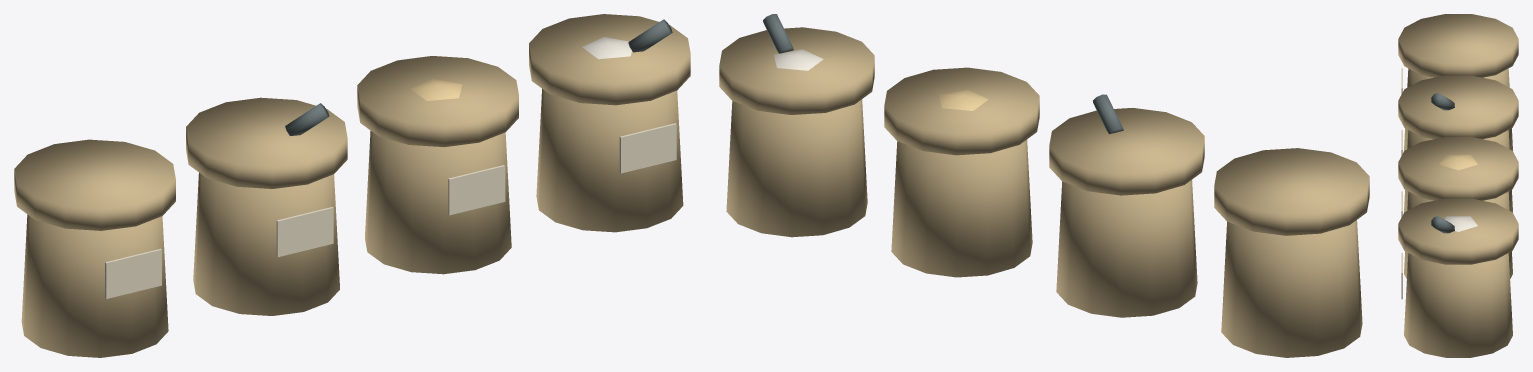
3 views of the same model, side by side, from view 1: azimuth 30°, elevation 25°; view 2: azimuth 150°, elevation 25°; view 3: azimuth 270°, elevation 25° (orthographic). The views are drawn at different scales.
Parts seen in each view (by area): view 1: shop_sack, shop_paper, shop_steel, shop_crumb, shop_flour; view 2: shop_sack, shop_steel, shop_crumb, shop_flour; view 3: shop_sack, shop_steel, shop_crumb, shop_flour, shop_paper.
Boxes of the visible parts, x1=… form: shop_sack: x1=14, y1=14, x2=690, y2=357; shop_paper: x1=105, y1=123, x2=676, y2=298; shop_steel: x1=285, y1=19, x2=672, y2=135; shop_crumb: x1=411, y1=78, x2=462, y2=100; shop_flour: x1=582, y1=37, x2=631, y2=59; shop_sack: x1=719, y1=27, x2=1369, y2=357; shop_steel: x1=763, y1=14, x2=1123, y2=134; shop_crumb: x1=938, y1=89, x2=988, y2=110; shop_flour: x1=774, y1=49, x2=823, y2=70; shop_sack: x1=1398, y1=14, x2=1518, y2=357; shop_steel: x1=1431, y1=93, x2=1454, y2=233; shop_crumb: x1=1439, y1=154, x2=1477, y2=170; shop_flour: x1=1444, y1=216, x2=1477, y2=231; shop_paper: x1=1401, y1=68, x2=1402, y2=299.
Bounding box in the file's own units: 3.04 × 0.8084 × 0.66.
